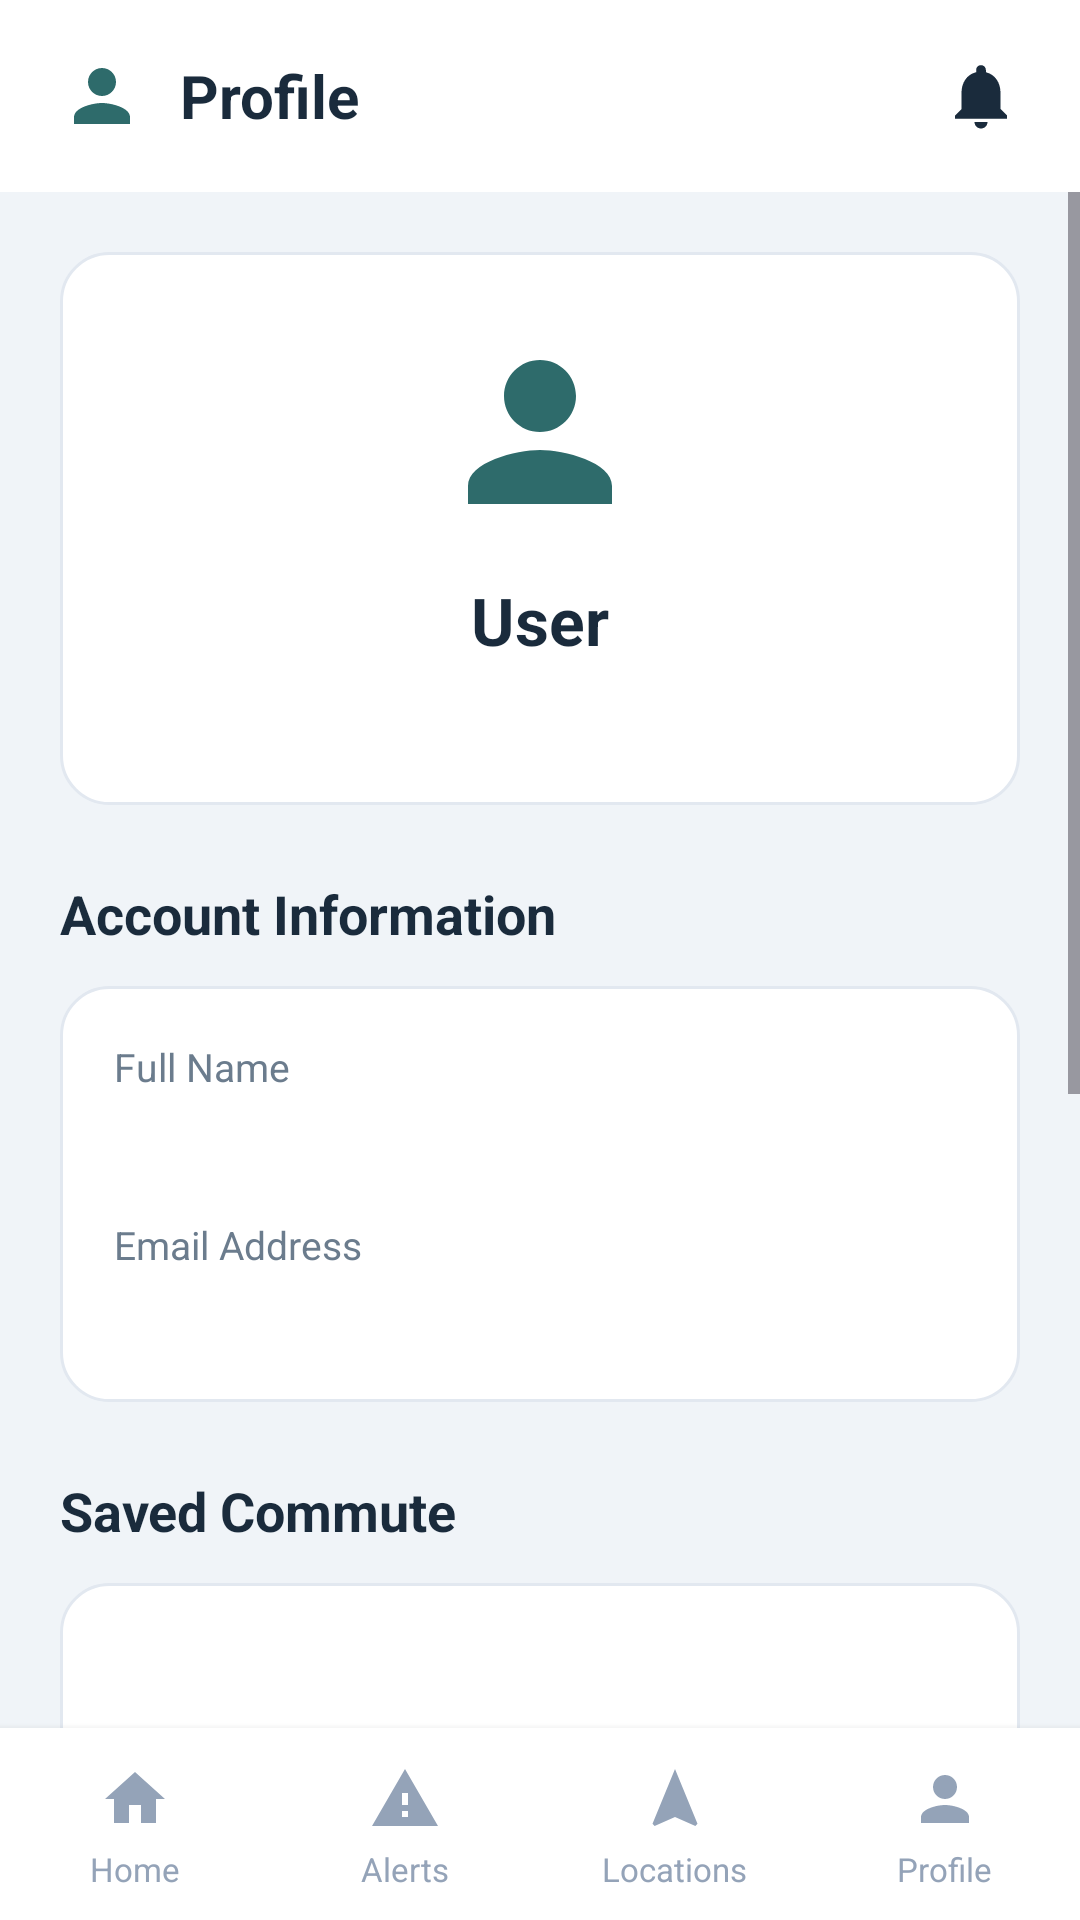

Named icons in this screenshot (1080*1920) and their bounding boxes, [x1, y1, x2, y2]:
navigation: [652, 1770, 698, 1826]
warning: [372, 1769, 438, 1826]
